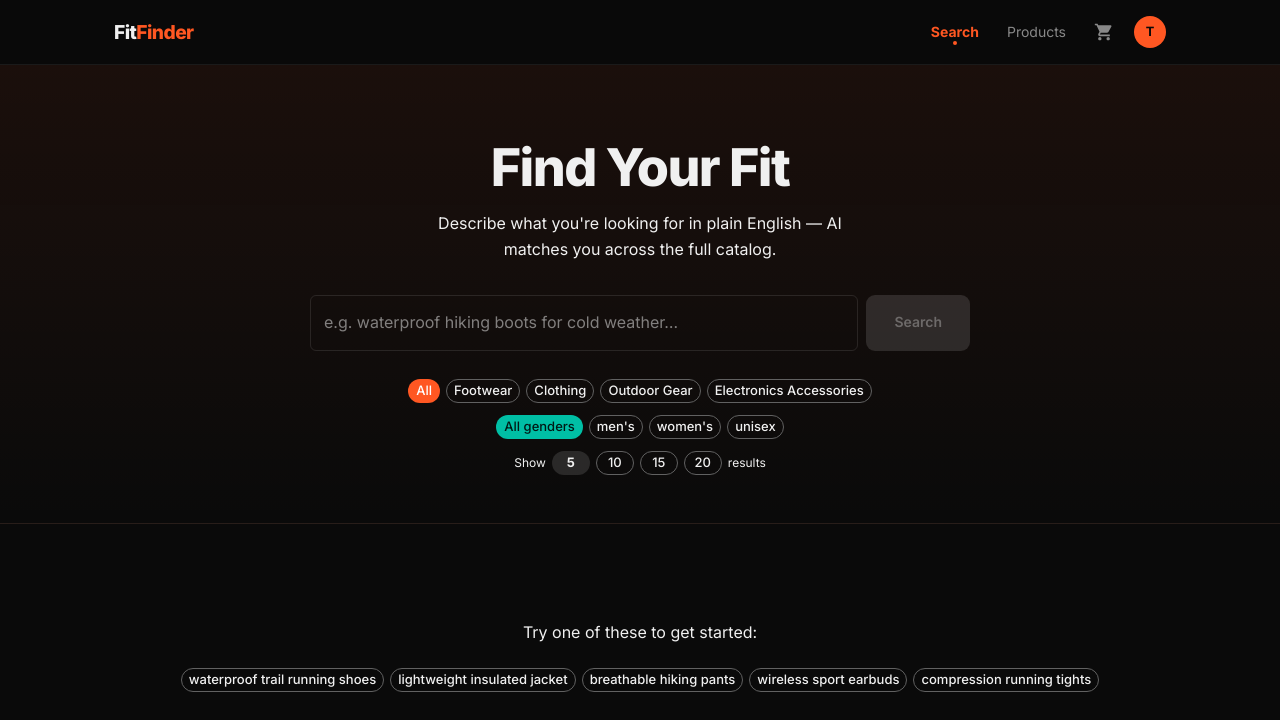
Scenario: Navbar — logged-in state › opens the user menu on avatar click and shows name + email
Click the text "T".
click(1150, 32)  # box [1134, 16, 1166, 48]
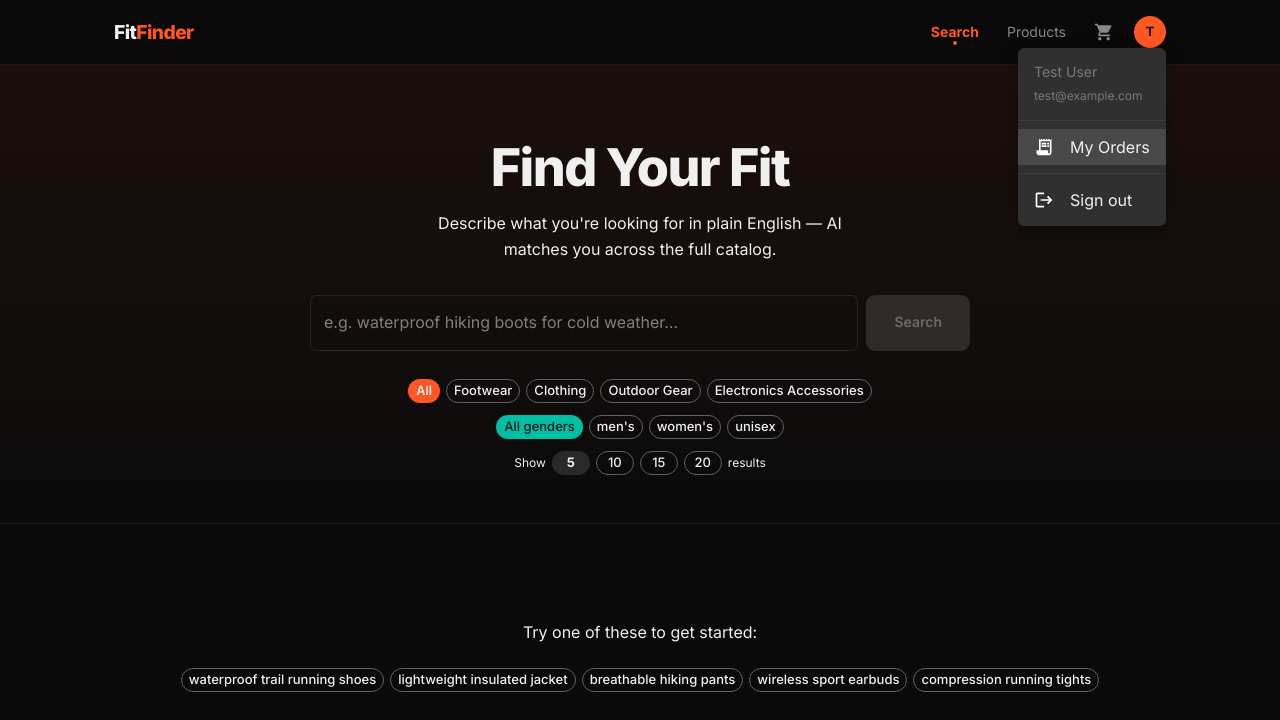
Check: the text "Test User" is shown, box [1034, 63, 1097, 80]
Check: the text "test@example.com" is shown, box [1034, 88, 1142, 103]
Check: the menu item "Sign out" is shown, box [1034, 190, 1132, 210]
